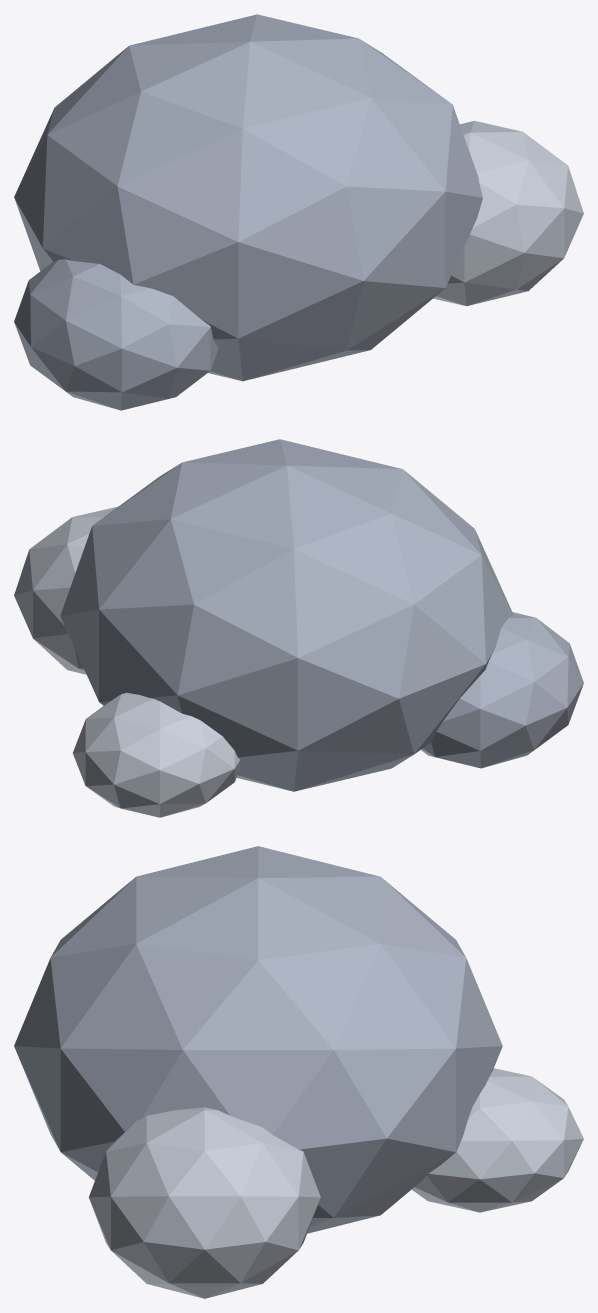
The model's file is rock_cluster.glb.
3 renders of one model, top to bottom at view 1: azimuth 30°, elevation 25°; view 2: azimuth 150°, elevation 25°; view 3: azimuth 270°, elevation 25°, orthographic. The views are drawn at different scales.
Visible parts, largest first — view 1: rock_cluster_0, rock_cluster_2, rock_cluster_1; view 2: rock_cluster_0, rock_cluster_3, rock_cluster_2, rock_cluster_1; view 3: rock_cluster_0, rock_cluster_1, rock_cluster_3.
Part boxes in pixels (x1,y1,x2,y2): rock_cluster_0: (14,14,482,381); rock_cluster_2: (14,259,218,410); rock_cluster_1: (433,120,583,306); rock_cluster_0: (60,439,513,791); rock_cluster_3: (73,692,240,817); rock_cluster_2: (421,612,583,768); rock_cluster_1: (14,506,117,674); rock_cluster_0: (14,846,502,1233); rock_cluster_1: (88,1107,320,1298); rock_cluster_3: (412,1068,583,1212).
Bounding box in the file's own units: 1.92 × 1.04 × 1.6.
